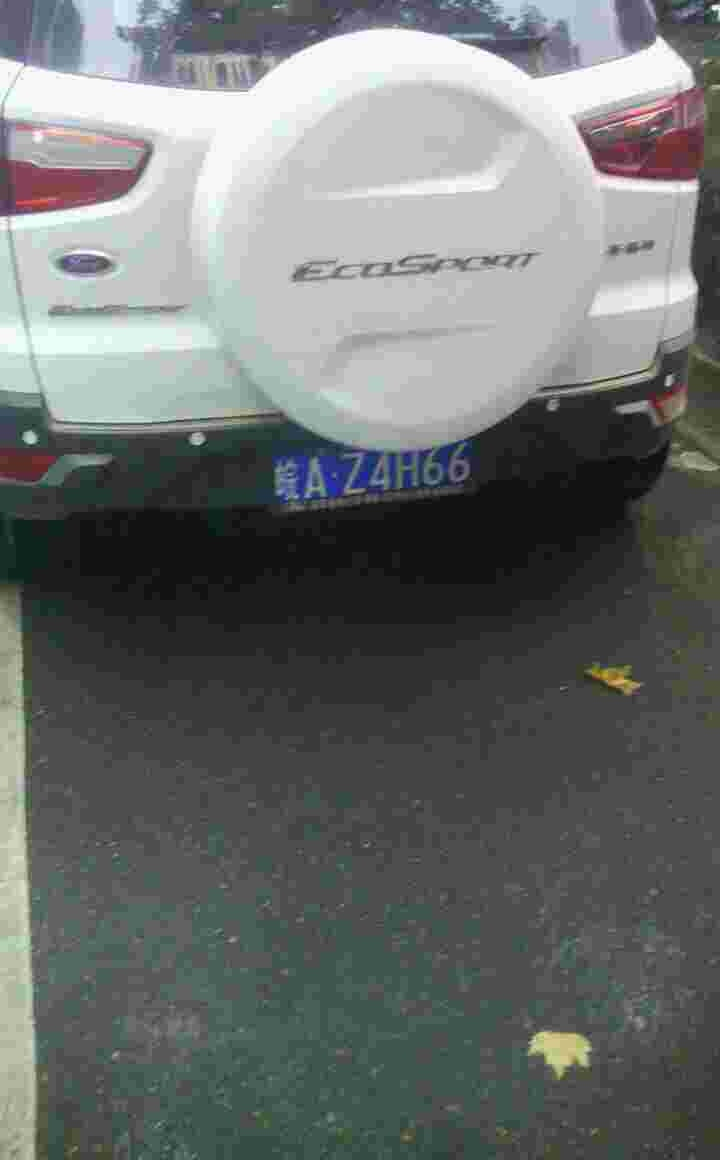license_plate: (278, 434, 466, 500)
